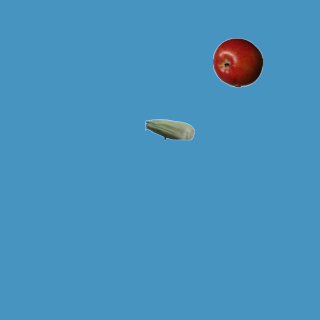Apple Braeburn: (212, 37, 262, 87)
Corn Husk: (144, 104, 194, 154)
